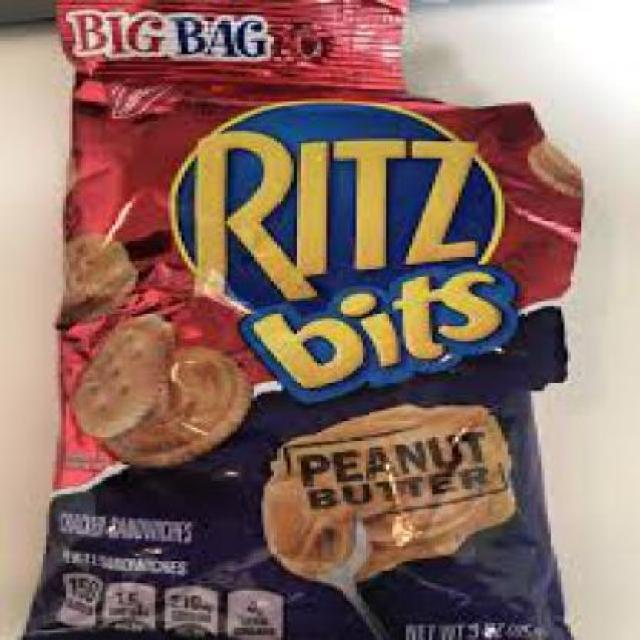Ritz cracker: (39, 20, 601, 638)
